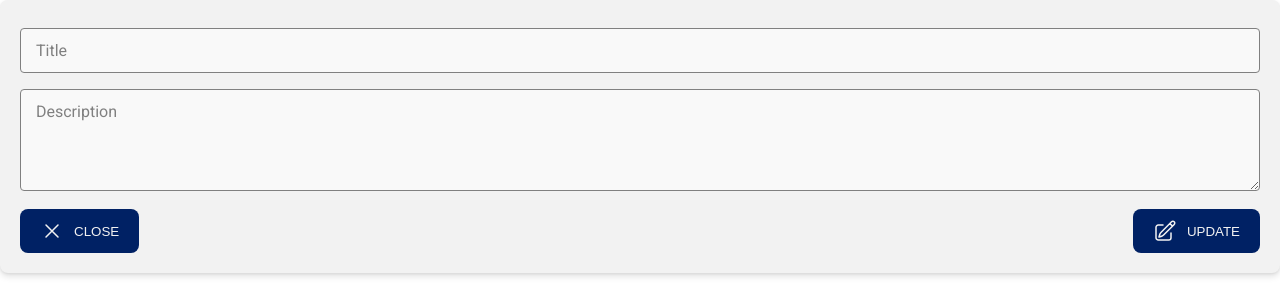
Test: TaskForm › shows error when title and description are empty
What coordinates should you click on to do the following:
click the button "UPDATE"
I would click on:
 (1196, 231)
Its box is [1133, 209, 1260, 253].
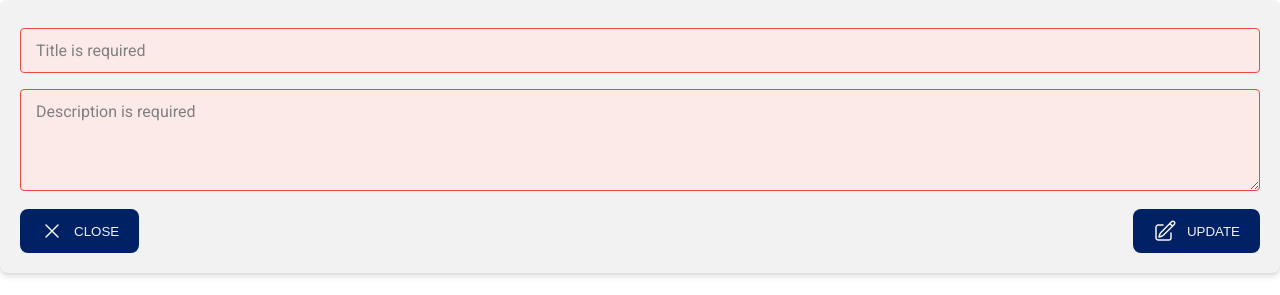
Result: the field with placeholder "Title is required" is shown at [20, 28, 1260, 73]
Result: the text box with placeholder "Description is required" is shown at [20, 89, 1260, 191]
